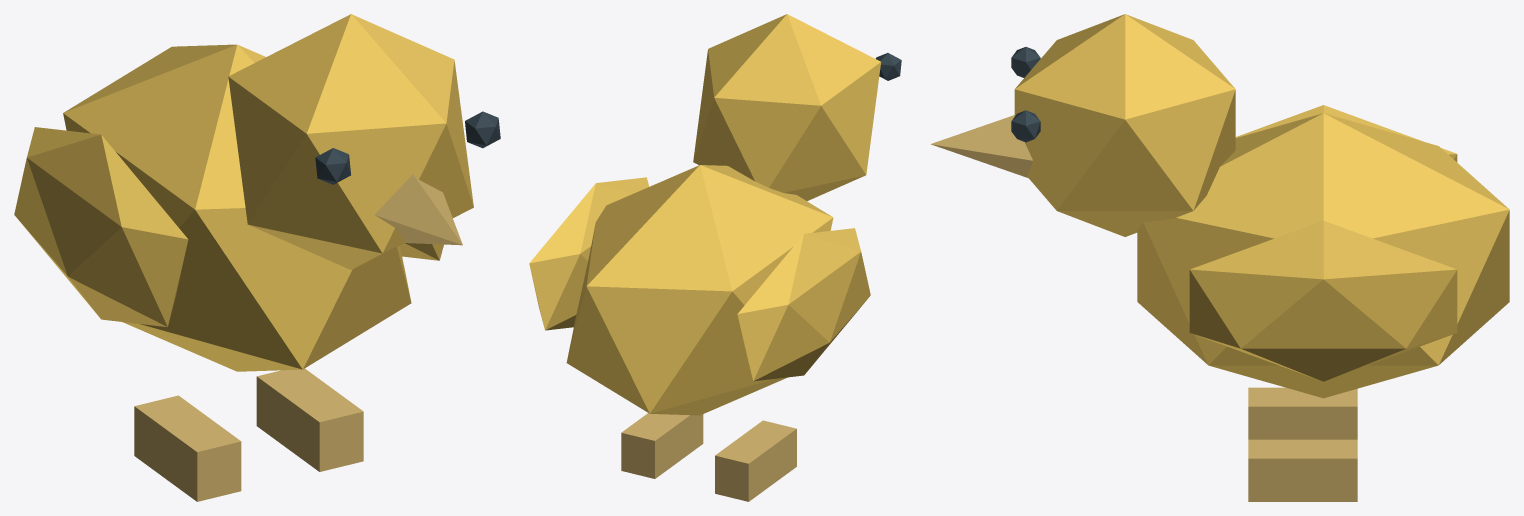
The model's file is duckling.glb.
3 views of the same model, side by side, from view 1: azimuth 30°, elevation 25°; view 2: azimuth 150°, elevation 25°; view 3: azimuth 270°, elevation 25° (orthographic). The views are drawn at different scales.
Visible parts, largest first — view 1: body_bob, head_peck, wing_flutter, foot, foot.001, beak, eye, eye.001, wing_flutter.001; view 2: body_bob, head_peck, wing_flutter, wing_flutter.001, foot, foot.001, eye; view 3: body_bob, head_peck, wing_flutter.001, foot.001, foot, beak, wing_flutter, eye.001, eye.
Part boxes in pixels (x1,y1,x2,y2): body_bob: (63,44,411,371); head_peck: (228,14,473,269); wing_flutter: (14,127,188,326); foot: (134,395,241,501); foot.001: (256,368,363,471); beak: (374,174,462,245); eye: (315,148,350,184); eye.001: (465,111,500,148); wing_flutter.001: (400,243,443,260); body_bob: (566,165,833,415); head_peck: (693,14,880,200); wing_flutter: (737,228,870,381); wing_flutter.001: (529,177,649,330); foot: (715,420,796,501); foot.001: (621,413,703,478); eye: (875,53,901,80); body_bob: (1137,113,1509,398); head_peck: (1014,14,1235,236); wing_flutter.001: (1189,220,1457,381); foot.001: (1248,439,1357,501); foot: (1248,387,1357,439); beak: (930,115,1032,177); wing_flutter: (1235,105,1457,162); eye.001: (1011,110,1040,142); eye: (1011,47,1040,77).
Size of the model in its own units: 0.4984 by 0.73 by 0.8472.
